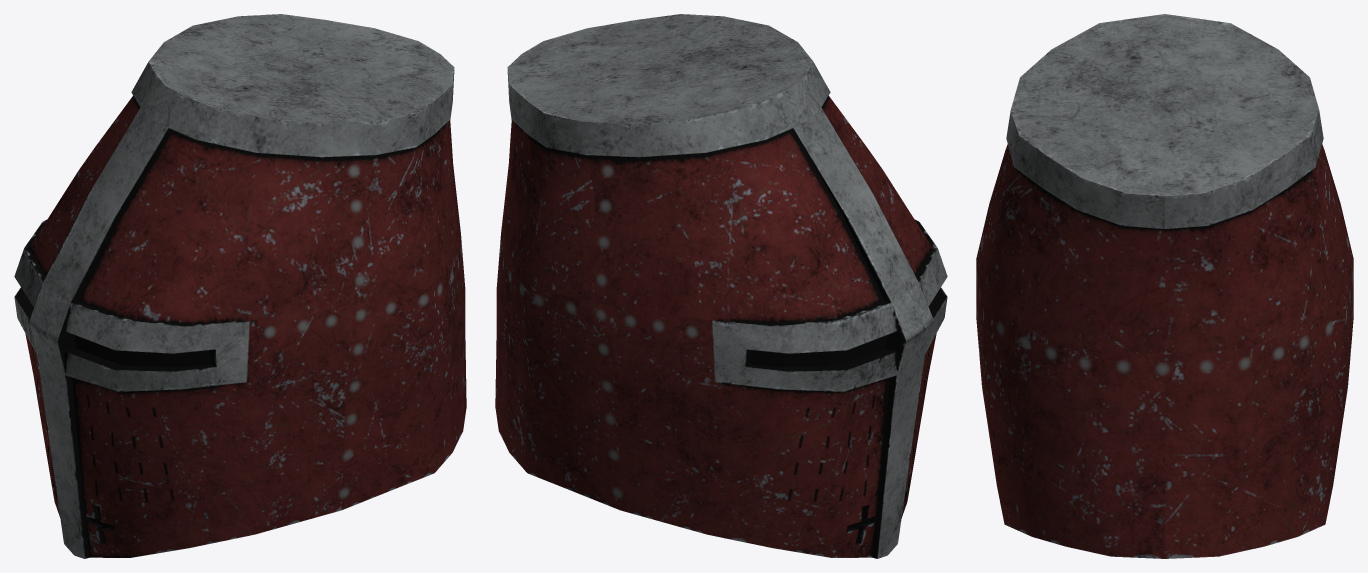
The picture shows the model from 3 angles, left to right: view 1: azimuth 30°, elevation 25°; view 2: azimuth 150°, elevation 25°; view 3: azimuth 270°, elevation 25°; orthographic projection. The views are drawn at different scales.
Visible parts, largest first — view 1: Object_2; view 2: Object_2; view 3: Object_2.
Part boxes in pixels (x1=…): Object_2: x1=14, y1=14, x2=466, y2=558; Object_2: x1=495, y1=14, x2=947, y2=558; Object_2: x1=976, y1=14, x2=1353, y2=558.
Size of the model in its own units: 17.34 by 18.17 by 12.91.
Materials: 1 (1 with a texture image).
